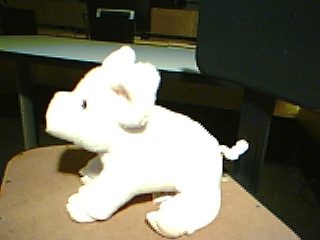piggy: (42, 43, 252, 239)
